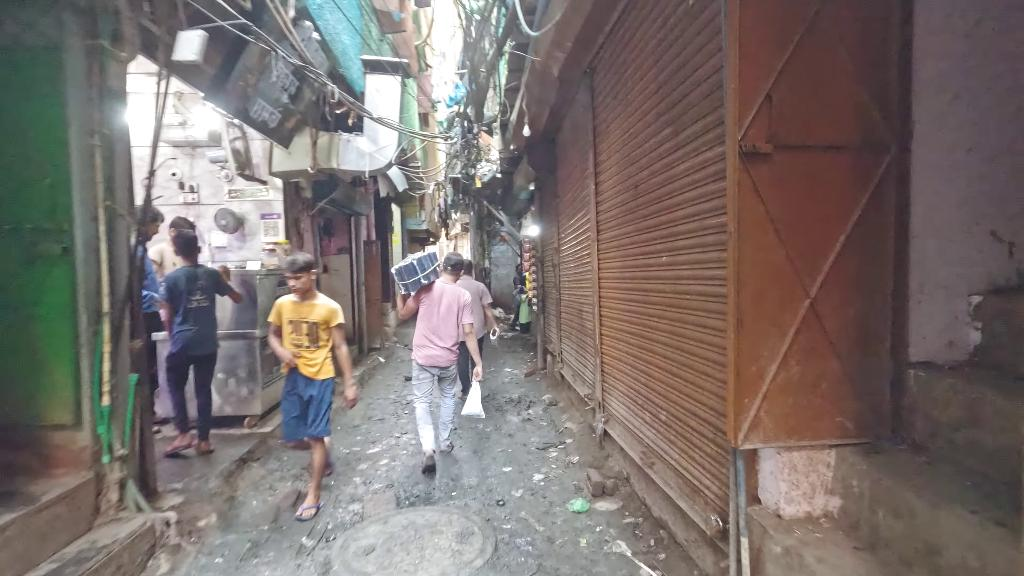garbage: (459, 377, 486, 421), (565, 496, 590, 513)
